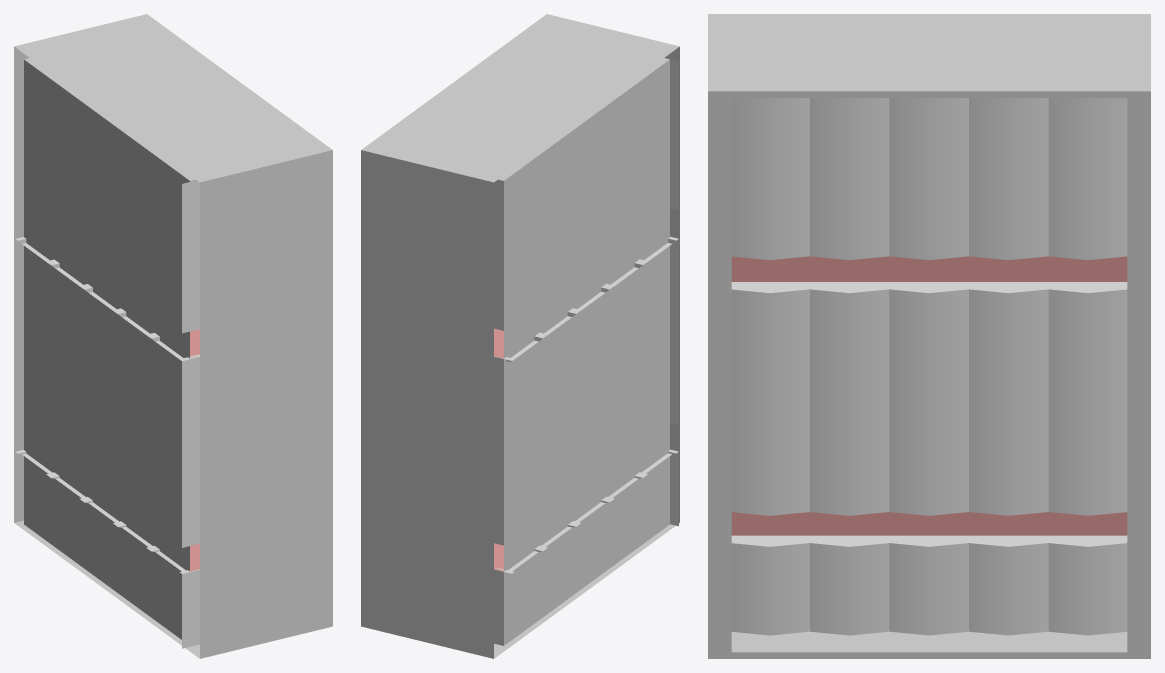
File: Shkaf SMALL.fbx
The picture shows the model from 3 angles, left to right: view 1: azimuth 30°, elevation 25°; view 2: azimuth 150°, elevation 25°; view 3: azimuth 270°, elevation 25°; orthographic projection. The views are drawn at different scales.
Parts seen in each view (by area): view 1: STRONG Base Model.218; view 2: STRONG Base Model.218; view 3: STRONG Base Model.218.
Boxes of the visible parts, bbox=[...] form: STRONG Base Model.218: bbox=[14, 14, 332, 658]; STRONG Base Model.218: bbox=[361, 14, 679, 658]; STRONG Base Model.218: bbox=[708, 14, 1150, 658].
Size of the model in its own units: 13.48 by 43.39 by 30.68.
